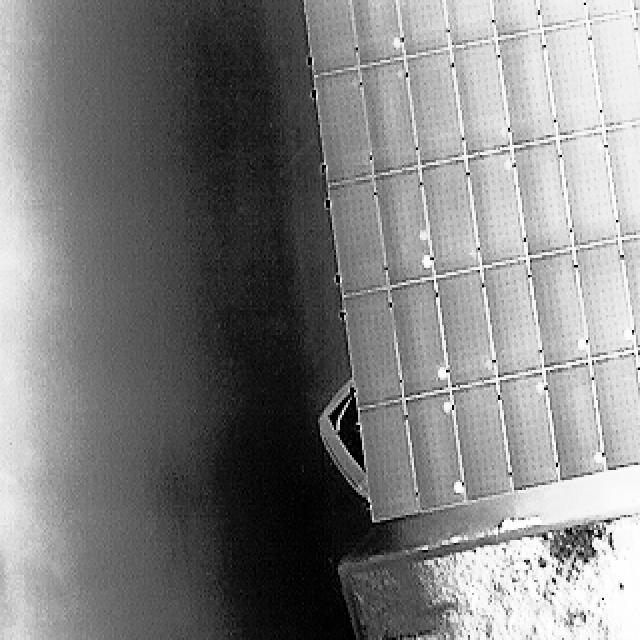Hotspots: (433, 362, 455, 388), (387, 30, 407, 55), (591, 444, 608, 468), (574, 333, 588, 358), (620, 323, 635, 346), (442, 398, 457, 421), (535, 377, 548, 401), (482, 352, 498, 371), (452, 478, 466, 498), (502, 154, 515, 175), (415, 228, 431, 244), (421, 252, 434, 270)
PV-modules: (400, 384, 472, 518), (523, 243, 595, 375), (540, 354, 610, 487), (432, 262, 502, 395), (569, 236, 640, 367), (447, 374, 517, 506), (386, 272, 455, 403), (494, 364, 562, 496), (478, 252, 546, 384), (462, 142, 530, 272), (554, 124, 623, 252), (509, 132, 577, 261), (416, 153, 484, 281), (493, 25, 562, 151), (447, 35, 516, 160), (340, 283, 406, 413), (538, 17, 607, 141), (326, 172, 392, 301), (402, 44, 469, 171), (357, 394, 421, 524), (372, 163, 437, 291), (356, 54, 422, 179), (313, 65, 376, 188), (587, 344, 640, 475), (585, 9, 640, 131), (600, 118, 640, 243), (303, 0, 361, 76), (349, 0, 406, 68), (396, 0, 453, 58), (615, 231, 640, 355), (442, 0, 499, 48), (489, 0, 546, 41), (536, 0, 590, 31), (584, 0, 636, 23), (630, 8, 640, 76), (633, 344, 640, 399), (630, 0, 640, 15)
